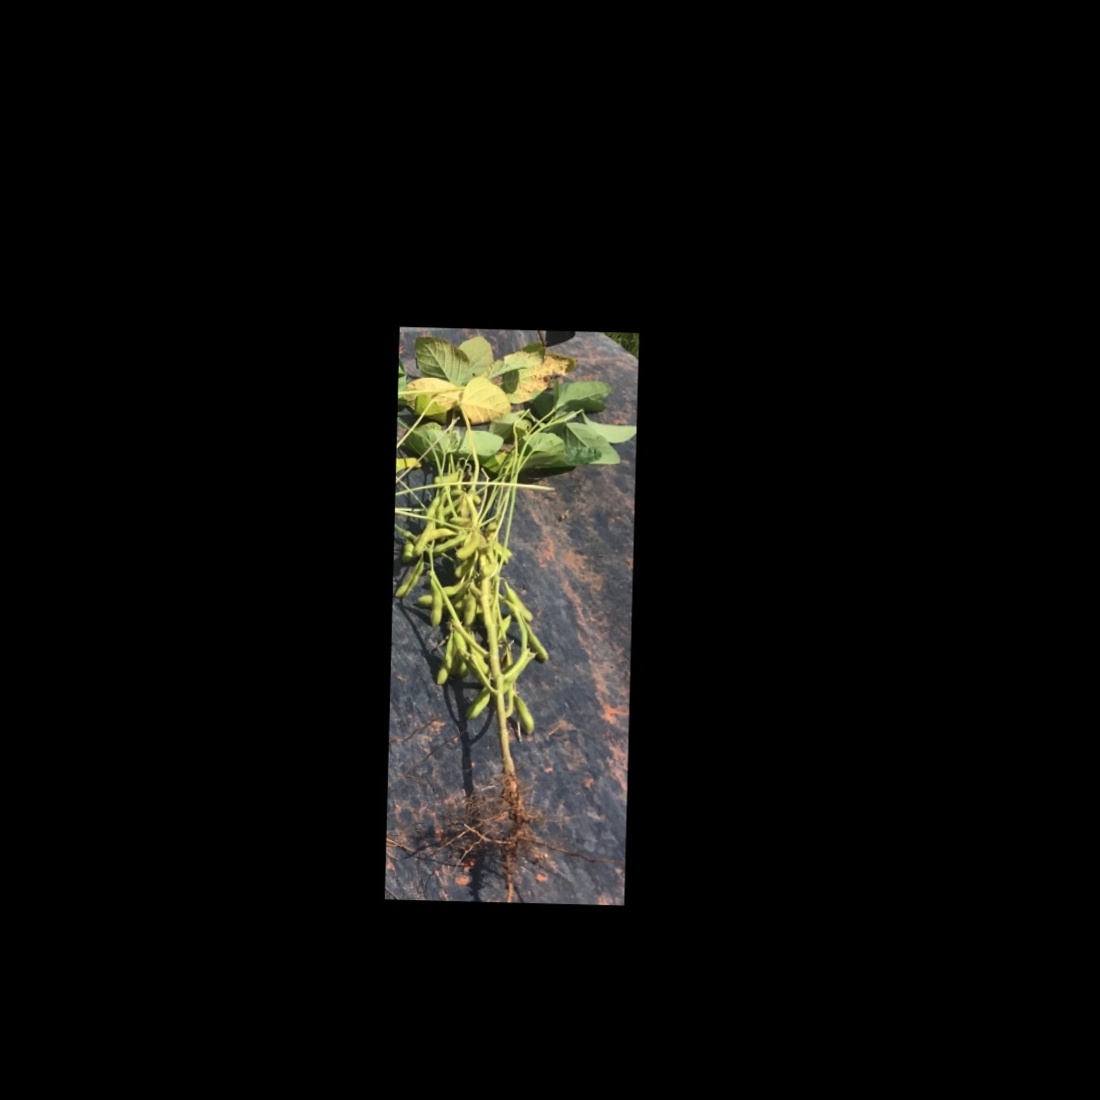pod: (392, 557, 430, 601), (509, 689, 537, 740), (503, 581, 535, 623), (524, 622, 553, 664), (423, 579, 445, 630), (409, 517, 432, 557)
soy: (386, 332, 630, 885)
